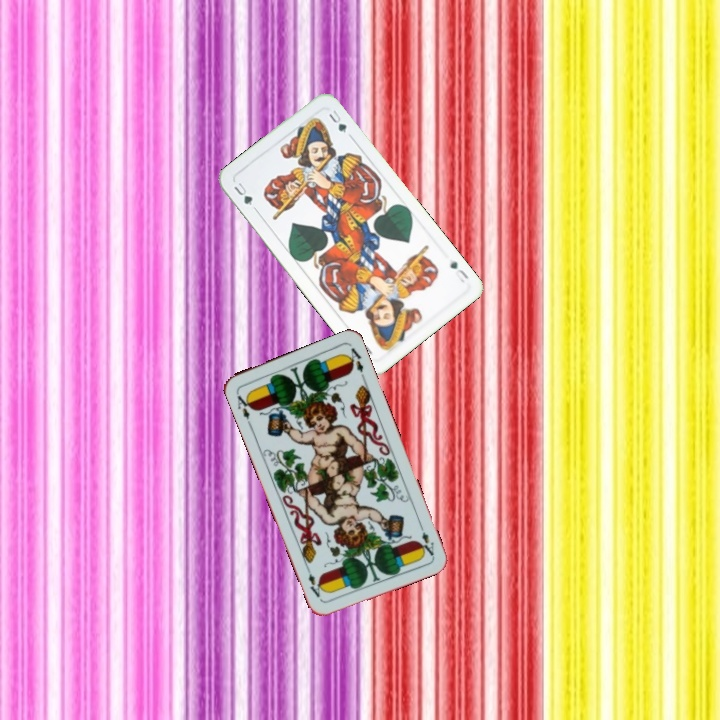EA: (232, 388, 256, 428), (415, 519, 437, 558)
GU: (230, 178, 255, 208), (446, 257, 471, 286)
